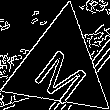M_NE: (28, 33, 92, 101)
